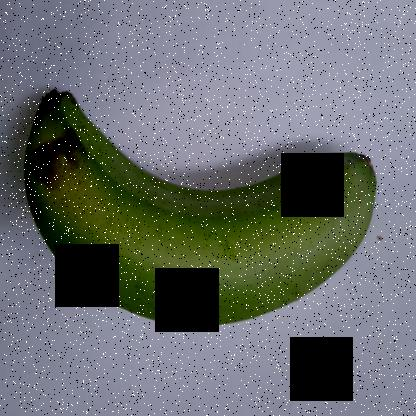freshunripe: (19, 78, 387, 341)
